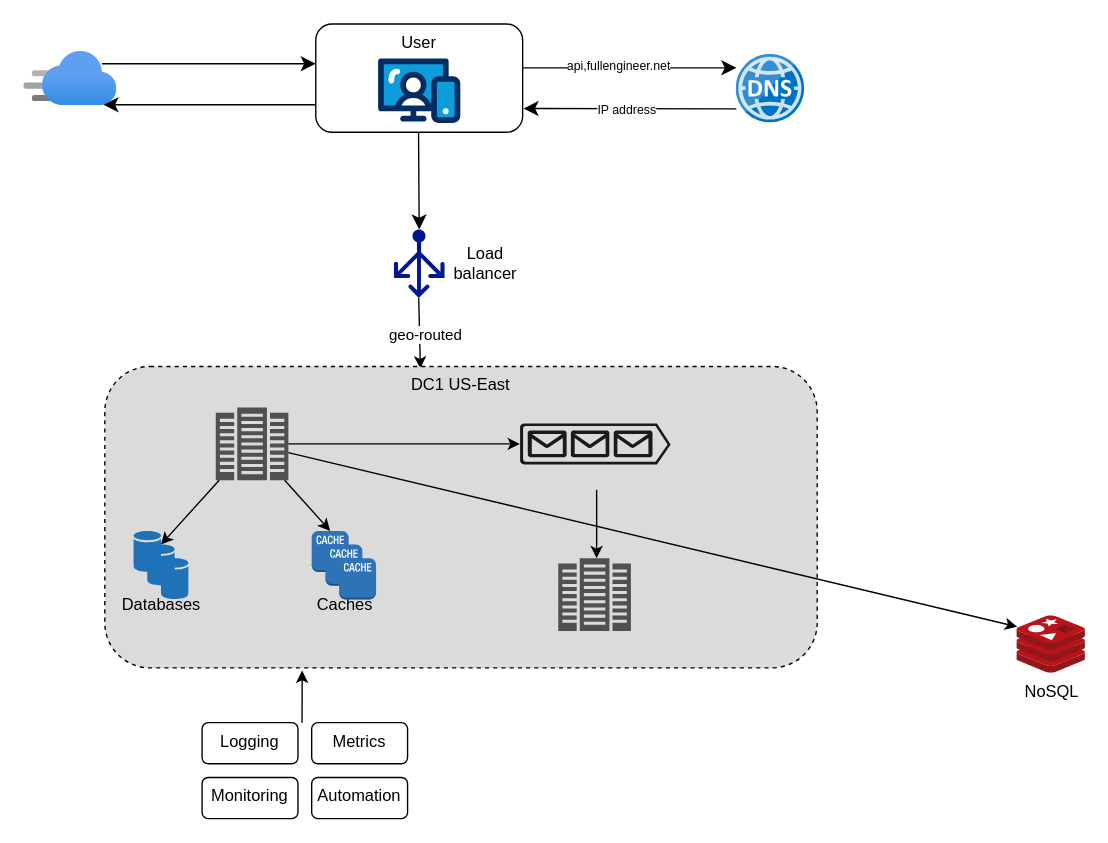
This 1108x843 diagram has some shape labels left out. The shapes that lost their labels are listed below. From the top down, each one's centre as x and y in pixels, then its label:
At point (69, 78): "CDN".
At point (251, 443): "Servers".
At point (594, 443): "Message queue".
At point (594, 594): "Workers".
